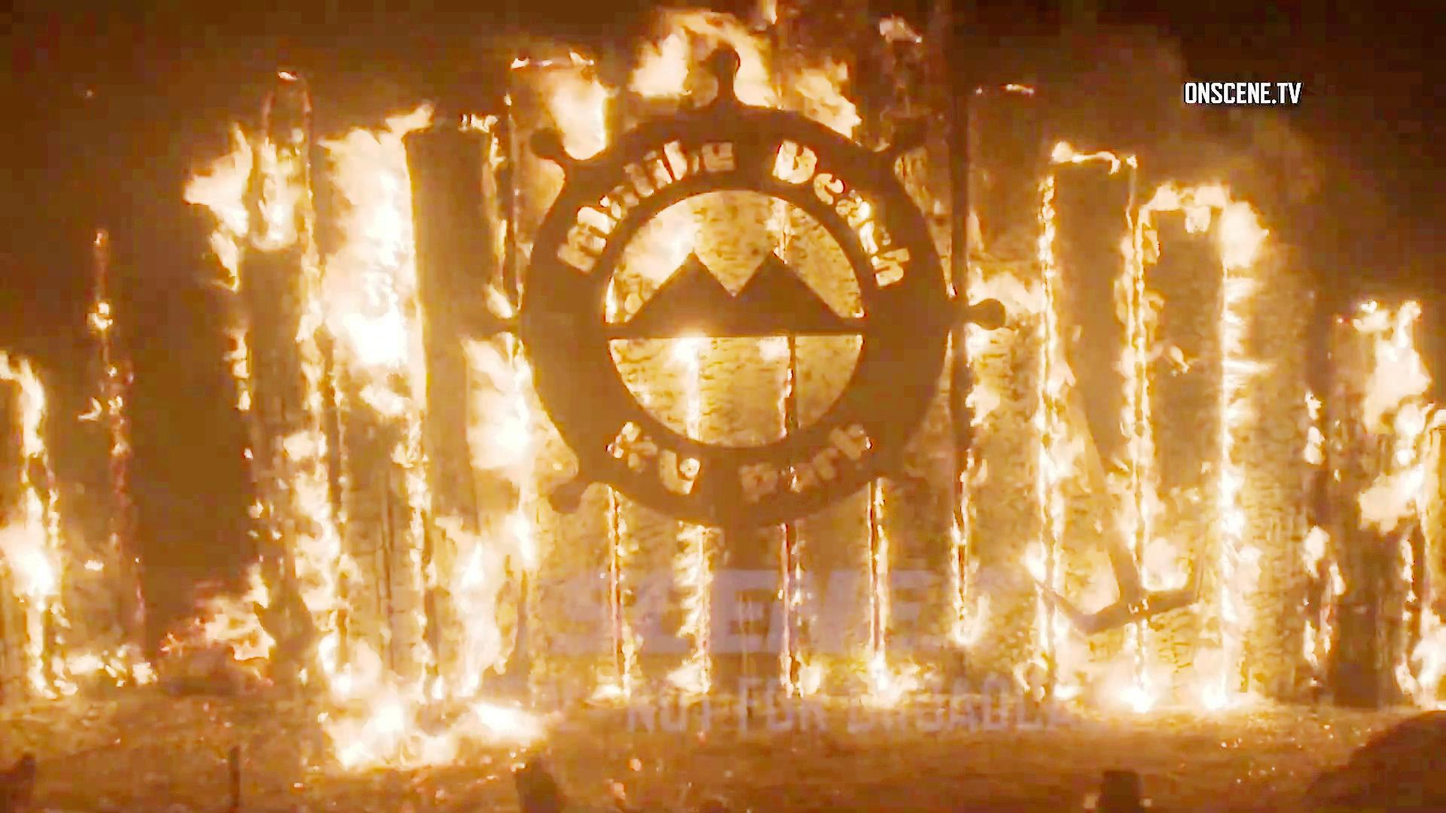fire: (1008, 128, 1431, 715), (200, 93, 543, 666)
